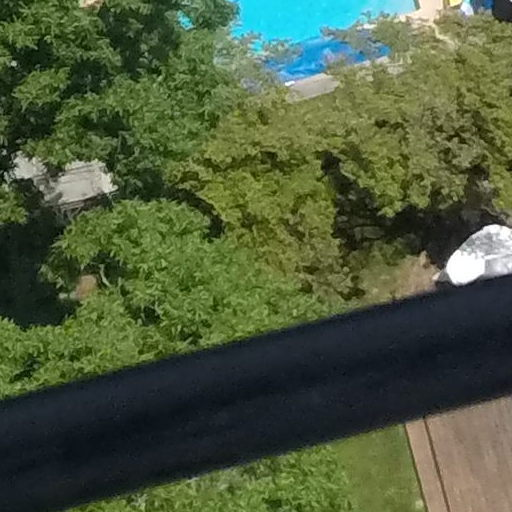pool: (174, 1, 477, 94)
